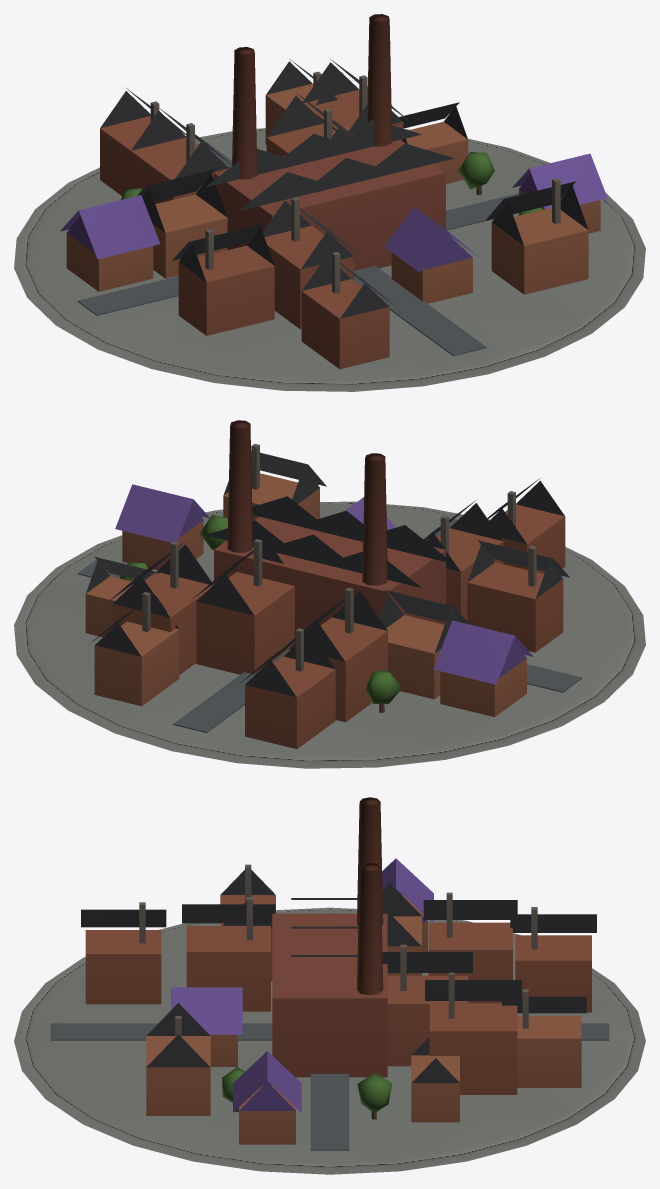
File: settlement_2_5.glb
The picture shows the model from 3 angles, top to bottom: view 1: azimuth 30°, elevation 25°; view 2: azimuth 150°, elevation 25°; view 3: azimuth 270°, elevation 25°; orthographic projection.
Parts seen in each view (by area): view 1: part_0; view 2: part_0; view 3: part_0.
Part boxes in pixels (box(x1,y1,x2,y2)): part_0: box(14, 14, 645, 391); part_0: box(14, 420, 645, 768); part_0: box(14, 797, 645, 1174).
Bounding box in the file's own units: 32.8 × 11.89 × 32.8.
